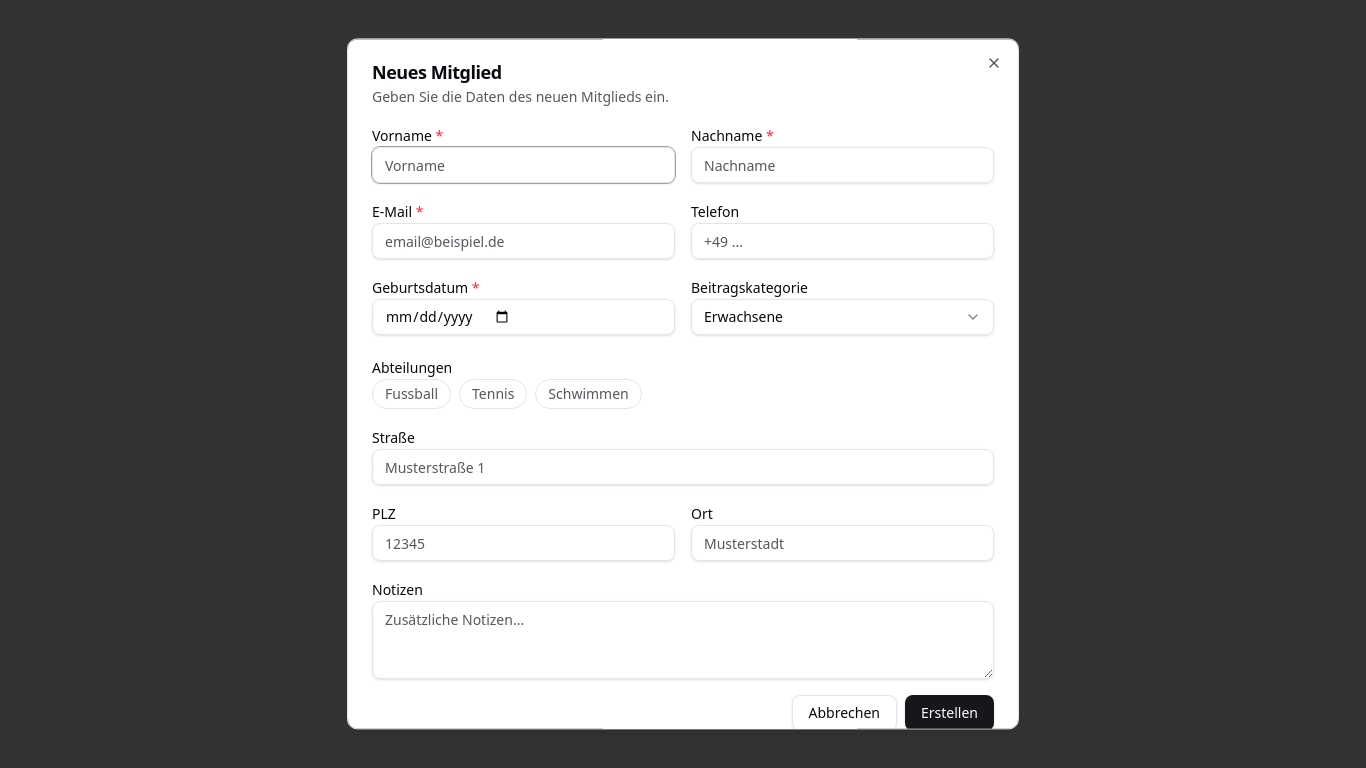
Test: MemberForm › clears validation error when field is filled
# Trigger validation
Click the button "Erstellen". click: (950, 713)
box: x1=905 y1=695 x2=994 y2=731
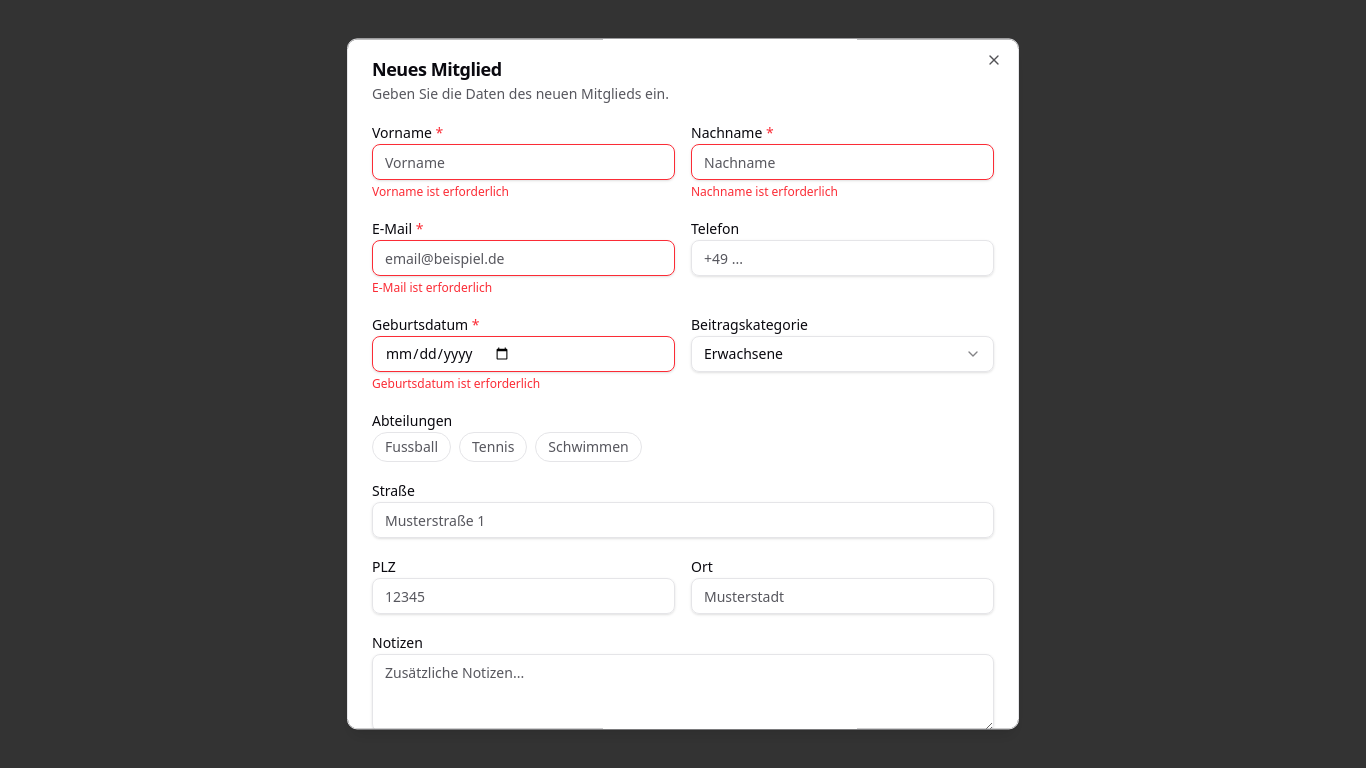
Now the text "Vorname ist erforderlich" is shown, box x1=372 y1=183 x2=509 y2=200
# Fill the vorname field
Type "Anna" into the field with placeholder "Vorname". click: (524, 162)
box: x1=372 y1=144 x2=675 y2=180
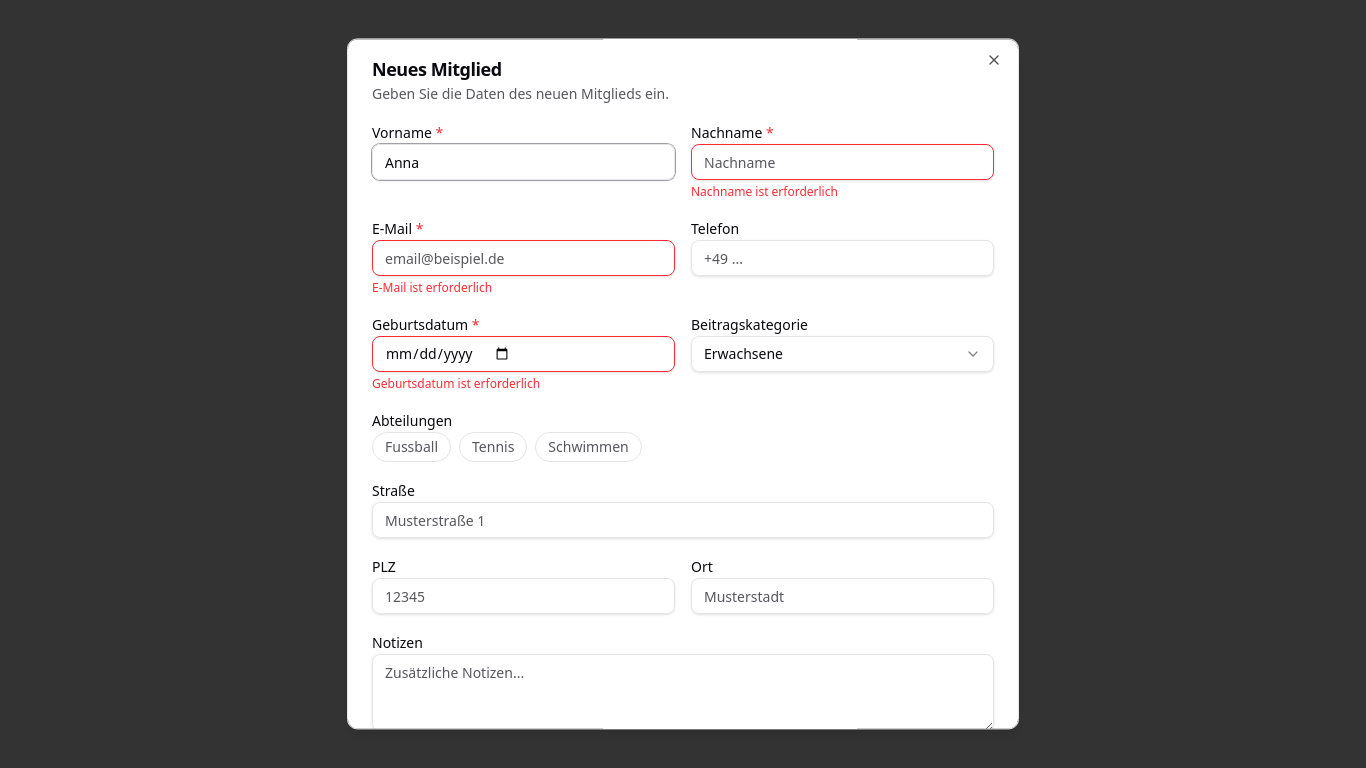
Now the text "Vorname ist erforderlich" is gone
